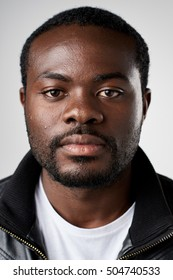man: (19, 6, 152, 184)
